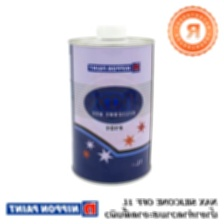cleaning_solution: (66, 19, 158, 188)
